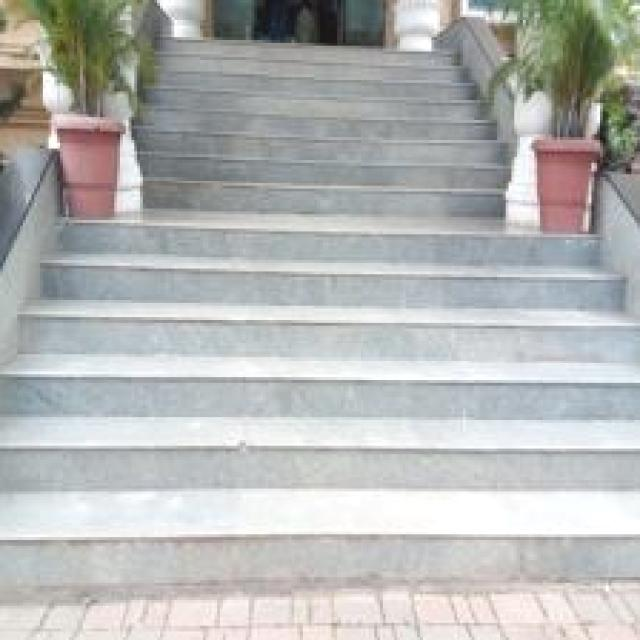upstair: (21, 301, 612, 612)
